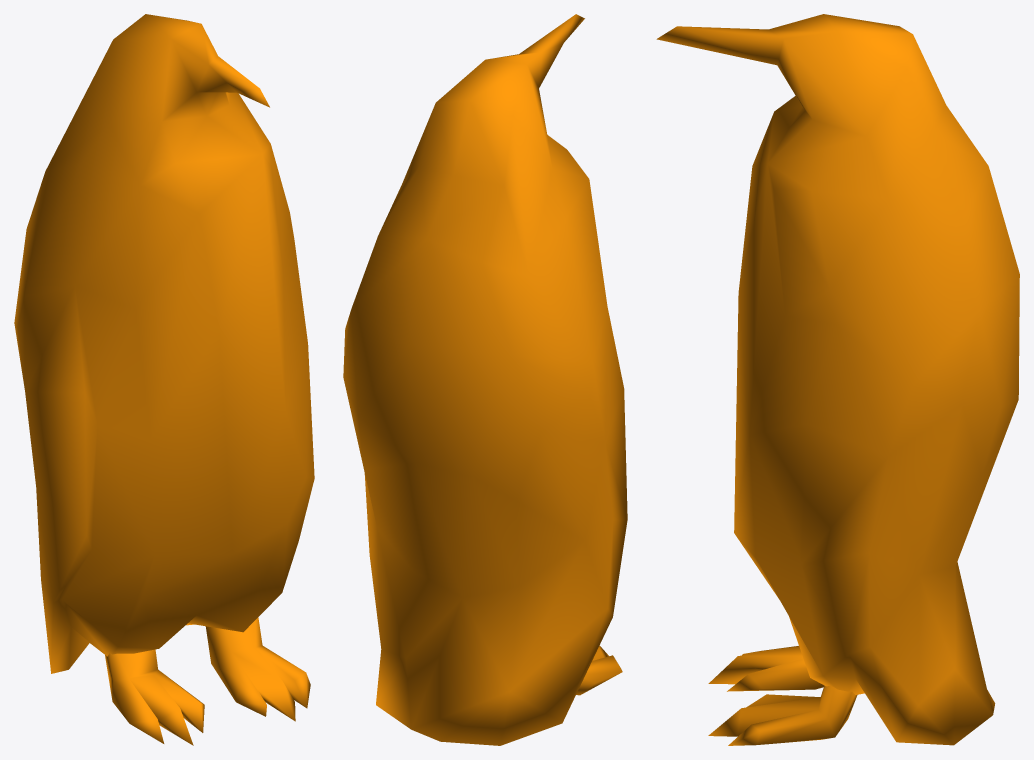
File: penguin.glb
3 renders of one model, left to right at view 1: azimuth 30°, elevation 25°; view 2: azimuth 150°, elevation 25°; view 3: azimuth 270°, elevation 25°, orthographic. The views are drawn at different scales.
Parts seen in each view (by area): view 1: penguin; view 2: penguin; view 3: penguin.
Boxes of the visible parts, left/top/right/bottom form: penguin: left=14, top=14, right=314, bottom=745; penguin: left=343, top=14, right=627, bottom=745; penguin: left=656, top=14, right=1019, bottom=745.
Bounding box in the file's own units: 43.36 × 103 × 49.32.
